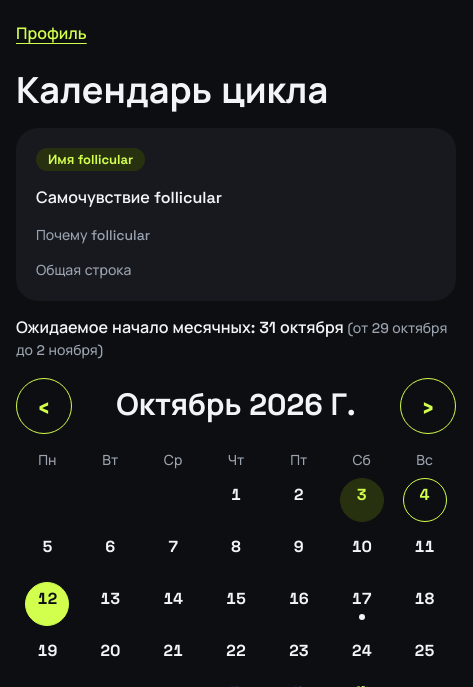
Test: тап по дню › ошибка записи видна, /rebuild не зовётся
Click the button "10" at (362, 552), box [340,530,384,574]
(page scrolled)
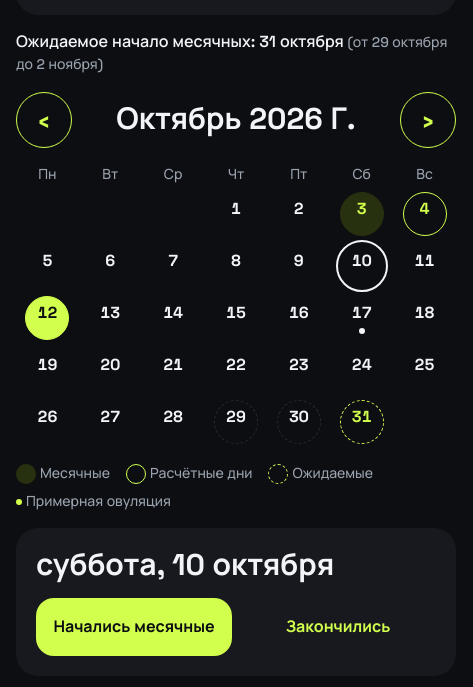
Click the button "Начались месячные" at (134, 627), box [36,598,232,656]
(page scrolled)
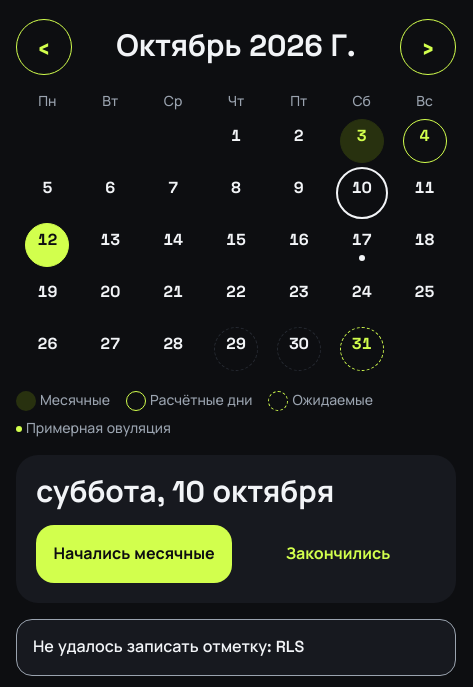
Result: the message shows "RLS" at [33,636,304,657]
